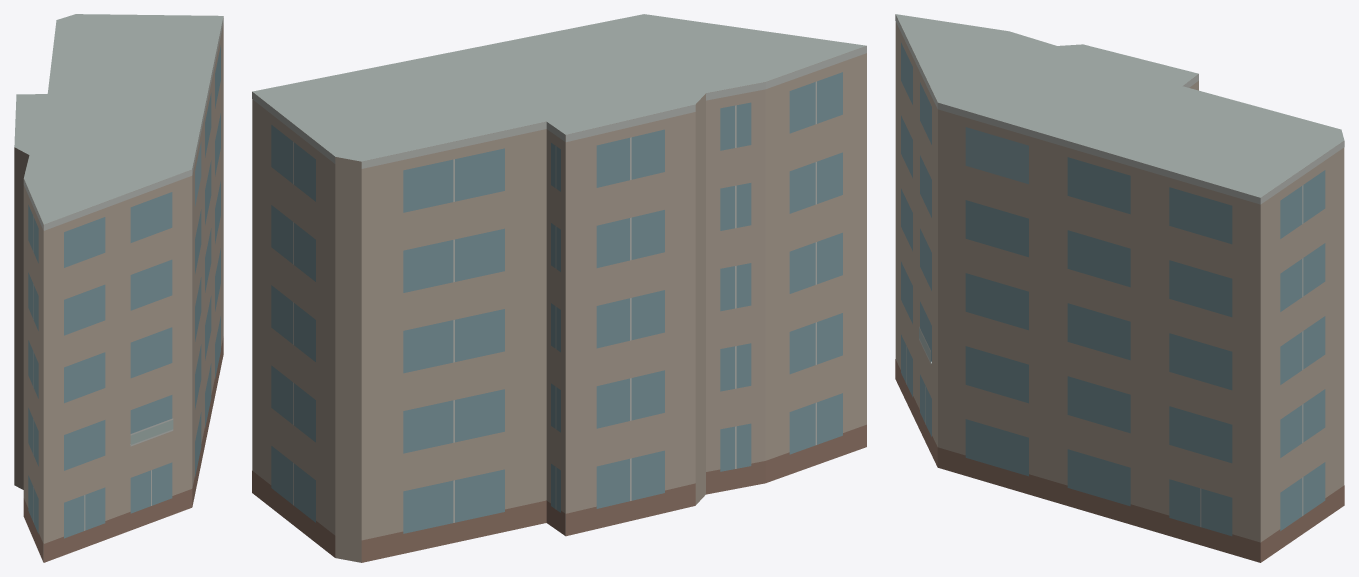
File: survey-upis-32784998.glb
The picture shows the model from 3 angles, left to right: view 1: azimuth 30°, elevation 25°; view 2: azimuth 150°, elevation 25°; view 3: azimuth 270°, elevation 25°; orthographic projection. The views are drawn at different scales.
Visible parts, largest first — view 1: survey-upis-32784998.tmp; view 2: survey-upis-32784998.tmp; view 3: survey-upis-32784998.tmp.
Boxes of the visible parts, bbox=[...] form: survey-upis-32784998.tmp: bbox=[14, 14, 223, 562]; survey-upis-32784998.tmp: bbox=[252, 14, 866, 562]; survey-upis-32784998.tmp: bbox=[895, 14, 1344, 562].
Bounding box in the file's own units: 14.26 × 13.2 × 14.72.
